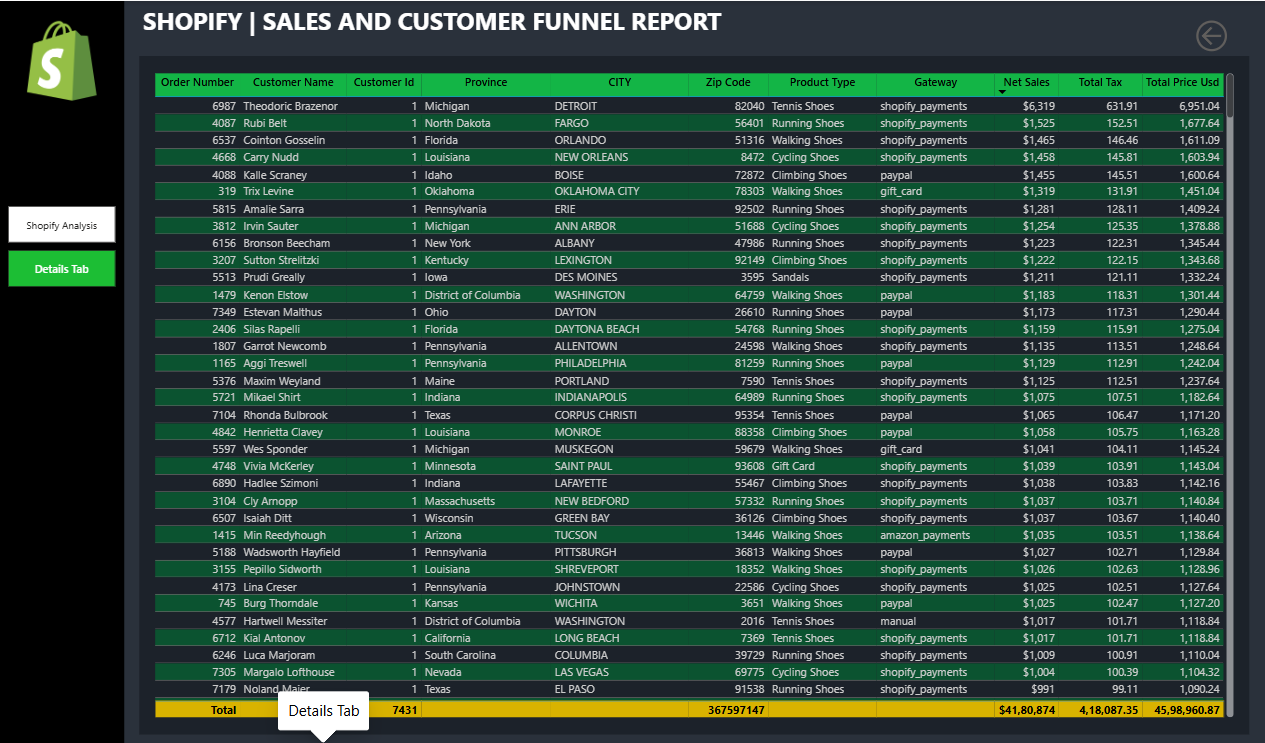

This screenshot's page, from the dashboard's own definition file:
{"tool":"powerbi","page":{"name":"Details Tab","canvas":[1700,1000],"ordinal":1},"visuals":[{"type":"shape","box":[0,0,169.2,998.7],"z":0},{"type":"textbox","box":[189.5,0,791,52.9],"z":1000},{"type":"shape","box":[189.3,73.7,1487.9,909.9],"z":2000},{"type":"actionButton","box":[1600,20,61.7,53.3],"z":3000},{"type":"image","box":[26.8,21.8,117.3,117.3],"z":4000},{"type":"tableEx","fields":{"Values":["shopify_sales.Order Number","shopify_sales.Customer Name","CountNonNull(shopify_sales.Customer Id)","shopify_sales.Billing Address Province","shopify_sales.CITY","Sum(shopify_sales.Billing Address Zip)","shopify_sales.Product Type","shopify_sales.Gateway","shopify_sales.Net Sales","Sum(shopify_sales.Total Tax)","Sum(shopify_sales.Total Price Usd)"]},"box":[205,91.7,1456.7,873.3],"z":5000},{"type":"pageNavigator","box":[13.4,274.8,144.1,108.9],"z":6000}]}

Visuals, with their boxes on the page's 1700x1000 design canvas (x1, y1, x2, y2). These are canvas units, not pixel positions in the 1265x743 screenshot, which may show the page scaled, cropped or inside an application window:
shape: {"x1": 0, "y1": 0, "x2": 169, "y2": 999}
textbox: {"x1": 190, "y1": 0, "x2": 980, "y2": 53}
shape: {"x1": 189, "y1": 74, "x2": 1677, "y2": 984}
actionButton: {"x1": 1600, "y1": 20, "x2": 1662, "y2": 73}
image: {"x1": 27, "y1": 22, "x2": 144, "y2": 139}
tableEx - shopify_sales.Order Number x shopify_sales.Customer Name: {"x1": 205, "y1": 92, "x2": 1662, "y2": 965}
pageNavigator: {"x1": 13, "y1": 275, "x2": 158, "y2": 384}
